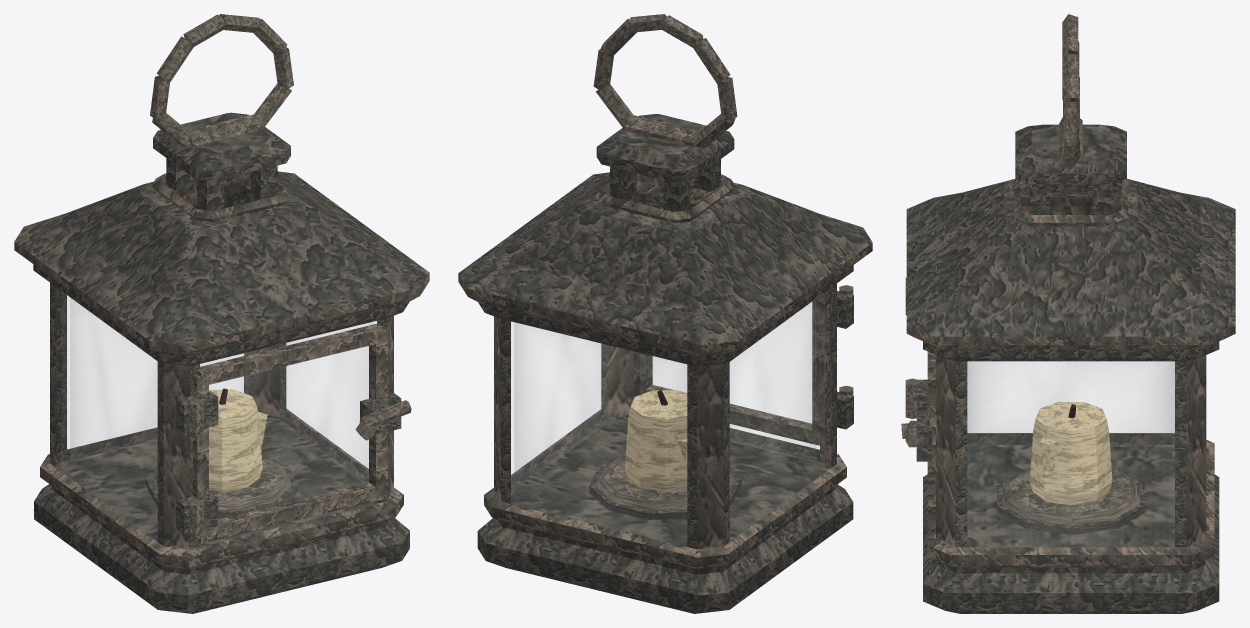
Rendered from Lanterna.glb.
3 renders of one model, left to right at view 1: azimuth 30°, elevation 25°; view 2: azimuth 150°, elevation 25°; view 3: azimuth 270°, elevation 25°, orthographic.
Visible parts, largest first — view 1: Chapéu, Base, Portinhola, Moldura inferior, Cantoneiras, Montantes, Alça, Tampa do respiro, Vela, Moldura superior, Respiro, Dobradiças (+7 smaller); view 2: Chapéu, Base, Moldura inferior, Cantoneiras, Montantes, Vela, Alça, Tampa do respiro, Portinhola, Vidro traseiro, Moldura superior, Respiro (+6 smaller); view 3: Chapéu, Base, Moldura inferior, Cantoneiras, Vela, Pires, Tampa do respiro, Vidro direito, Montantes, Moldura superior, Respiro, Alça (+5 smaller).
Part boxes in pixels (left/top/right/bottom): Chapéu: left=14, top=171, right=429, bottom=355; Base: left=34, top=417, right=409, bottom=613; Portinhola: left=193, top=323, right=387, bottom=543; Moldura inferior: left=40, top=409, right=403, bottom=568; Cantoneiras: left=55, top=287, right=393, bottom=549; Montantes: left=50, top=283, right=386, bottom=548; Alça: left=150, top=14, right=293, bottom=147; Tampa do respiro: left=153, top=112, right=290, bottom=181; Vela: left=209, top=389, right=262, bottom=491; Moldura superior: left=33, top=189, right=409, bottom=366; Respiro: left=151, top=158, right=292, bottom=222; Dobradiças: left=176, top=391, right=218, bottom=539; Chapéu: left=458, top=172, right=872, bottom=356; Base: left=477, top=417, right=853, bottom=613; Moldura inferior: left=484, top=409, right=846, bottom=568; Cantoneiras: left=494, top=288, right=831, bottom=549; Montantes: left=501, top=283, right=836, bottom=549; Vela: left=625, top=390, right=687, bottom=491; Alça: left=593, top=14, right=737, bottom=148; Tampa do respiro: left=596, top=114, right=734, bottom=182; Portinhola: left=634, top=291, right=826, bottom=445; Vidro traseiro: left=515, top=323, right=686, bottom=545; Moldura superior: left=478, top=190, right=853, bottom=366; Respiro: left=595, top=159, right=735, bottom=223; Chapéu: left=906, top=179, right=1235, bottom=349; Base: left=923, top=445, right=1219, bottom=613; Moldura inferior: left=927, top=433, right=1214, bottom=567; Cantoneiras: left=936, top=355, right=1206, bottom=546; Vela: left=1030, top=402, right=1112, bottom=505; Pires: left=997, top=468, right=1145, bottom=534; Tampa do respiro: left=1015, top=124, right=1126, bottom=184; Vidro direito: left=968, top=362, right=1174, bottom=546; Montantes: left=955, top=361, right=1186, bottom=547; Moldura superior: left=923, top=341, right=1219, bottom=361; Respiro: left=1014, top=179, right=1128, bottom=226; Alça: left=1062, top=14, right=1079, bottom=164.
Bounding box in the file's own units: 0.282 × 0.5088 × 0.2866.
5 materials, 5 textured.
